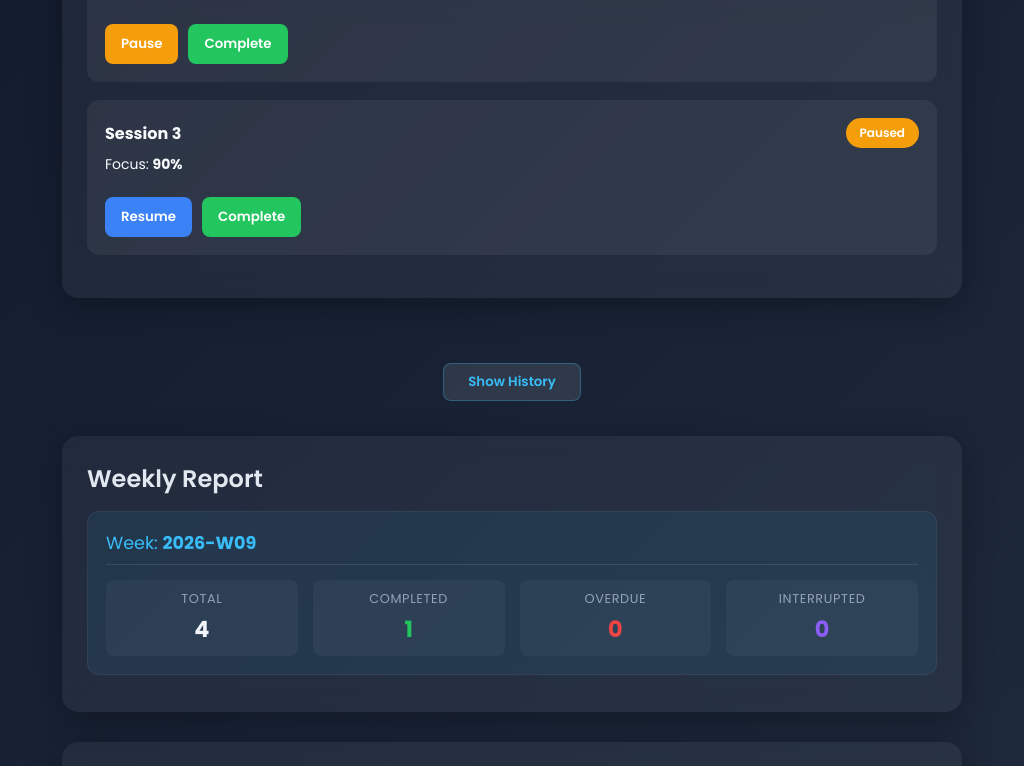
Test: App Component › toggles history visibility
(page scrolled)
What coordinates should you click on to do the following:
click the button "Show History"
I would click on:
 (512, 382)
Its box is [443,363,581,401].
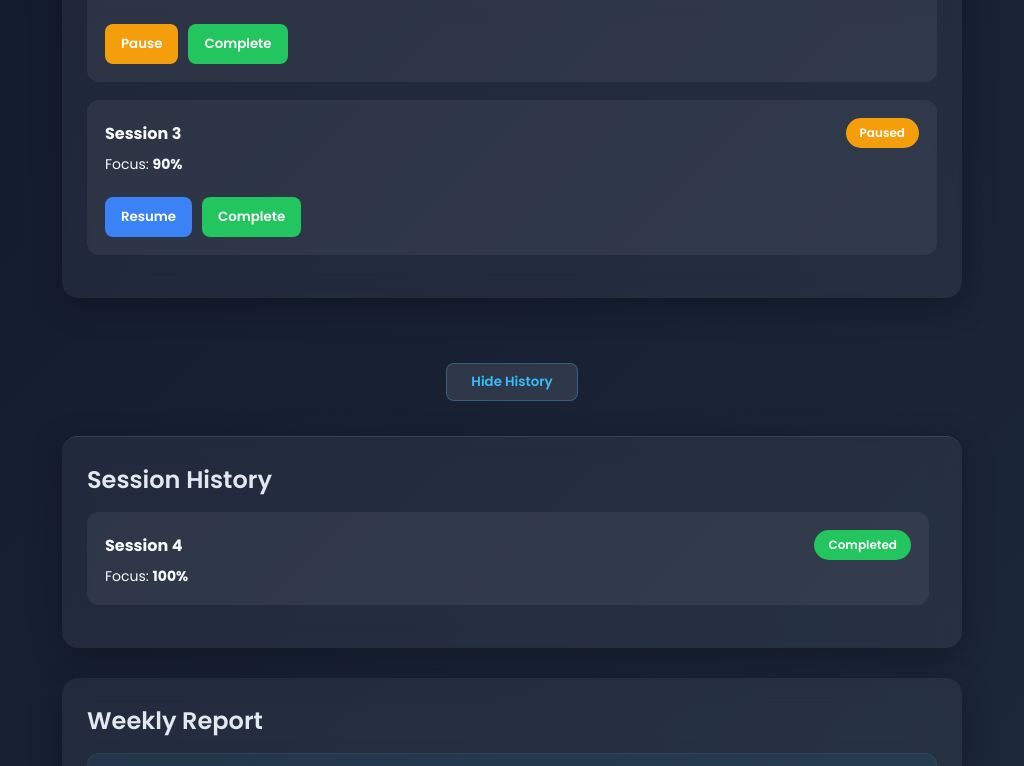
Now the heading "Session History" is shown, box [87,463,272,496]
Now the text "Session 4" is shown, box [105,532,182,558]
What coordinates should you click on to do the following:
click the button "Show History"
I would click on:
 (512, 382)
Its box is [446,363,578,401].
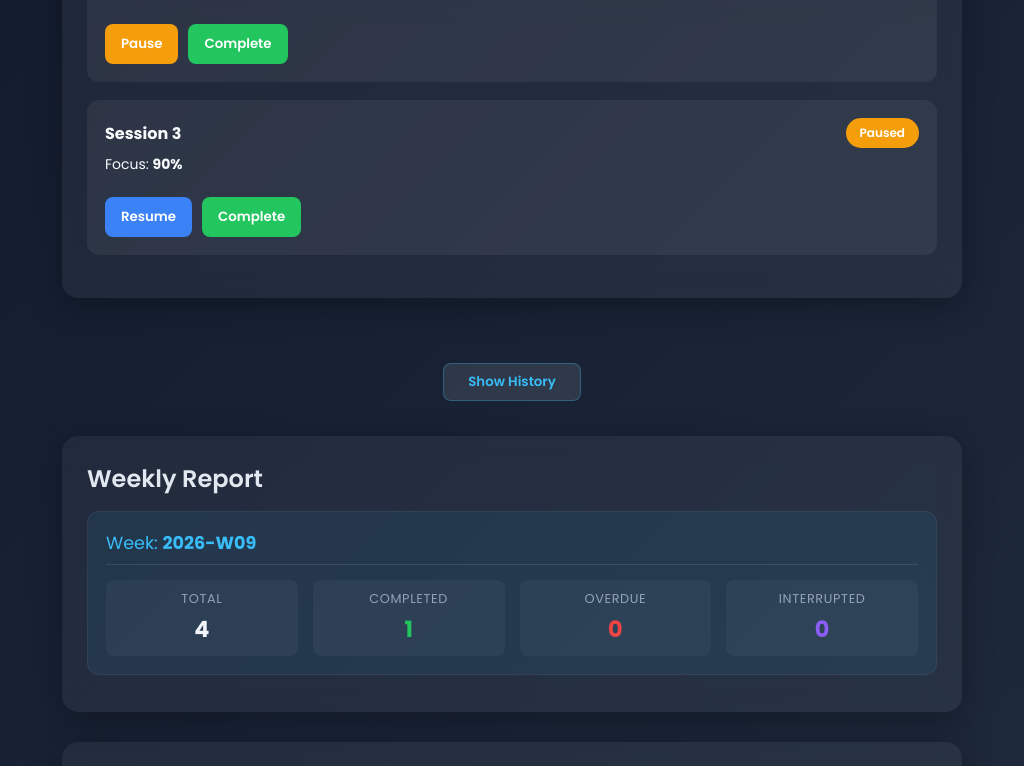
Now the heading "Session History" is gone
